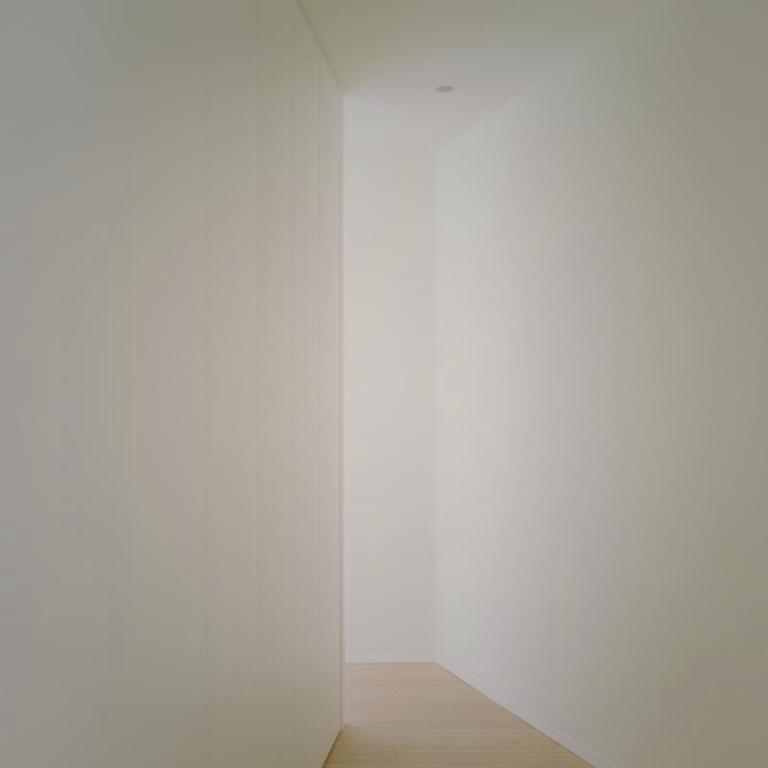white-walls: (379, 118, 724, 727)
